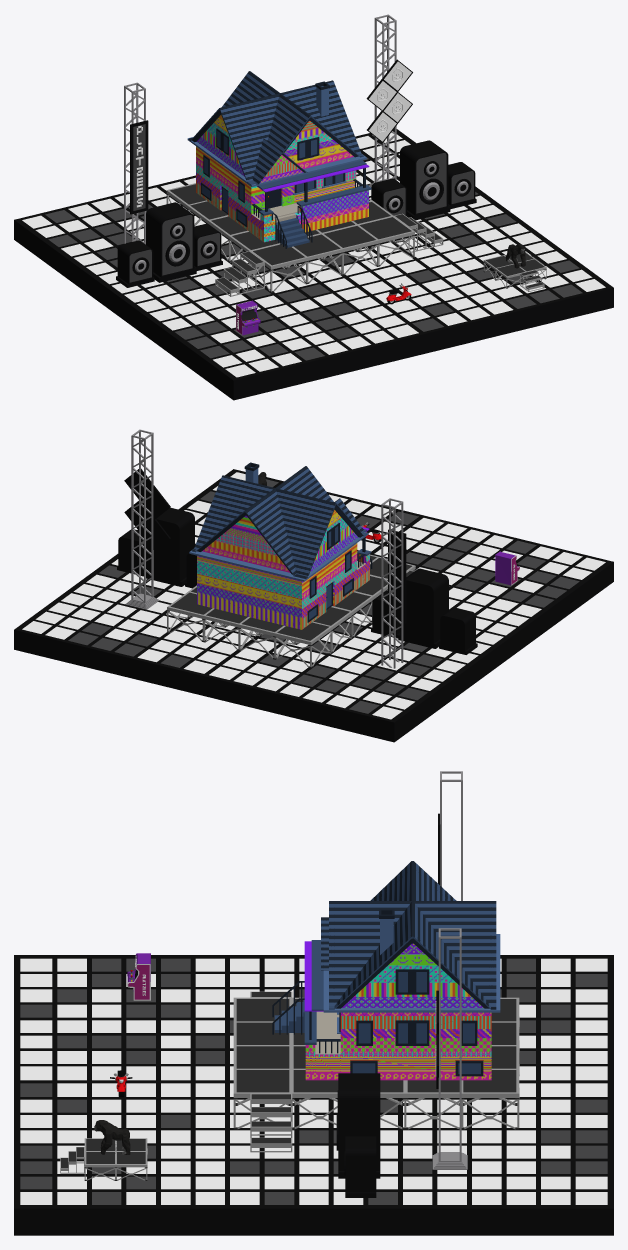
The picture shows the model from 3 angles, top to bottom: view 1: azimuth 30°, elevation 25°; view 2: azimuth 150°, elevation 25°; view 3: azimuth 270°, elevation 25°; orthographic projection. The views are drawn at different scales.
Visible parts, largest first — view 1: Cube.008, Cube.676, OBJRANDOM_ARCADE; view 2: Cube.008, Cube.676, OBJRANDOM_ARCADE; view 3: Cube.008, Cube.676, OBJRANDOM_ARCADE, ANIMAL_GORILA.
Boxes of the visible parts, <box> form: Cube.008: <box>14,14,613,400</box>; Cube.676: <box>187,71,371,248</box>; OBJRANDOM_ARCADE: <box>236,300,260,335</box>; Cube.008: <box>14,429,613,742</box>; Cube.676: <box>189,462,372,629</box>; OBJRANDOM_ARCADE: <box>495,551,519,585</box>; Cube.008: <box>14,771,613,1235</box>; Cube.676: <box>272,861,500,1080</box>; OBJRANDOM_ARCADE: <box>127,953,150,1000</box>; ANIMAL_GORILA: <box>94,1120,130,1154</box>.
Bounding box in the file's own units: 4000 × 1972 × 4000.
Materials: 44 (5 with a texture image).
